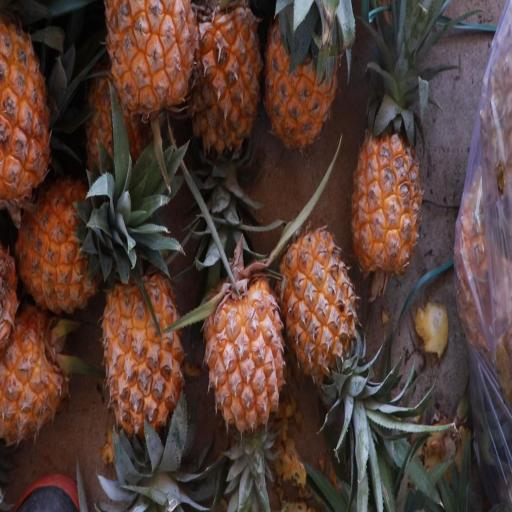Pineapple - v8 v1: (8, 172, 135, 319), (100, 260, 188, 471), (99, 0, 199, 177), (276, 220, 362, 414), (202, 258, 290, 442), (349, 92, 427, 281), (190, 0, 268, 172), (262, 2, 340, 164), (0, 11, 53, 217), (1, 300, 71, 452)
